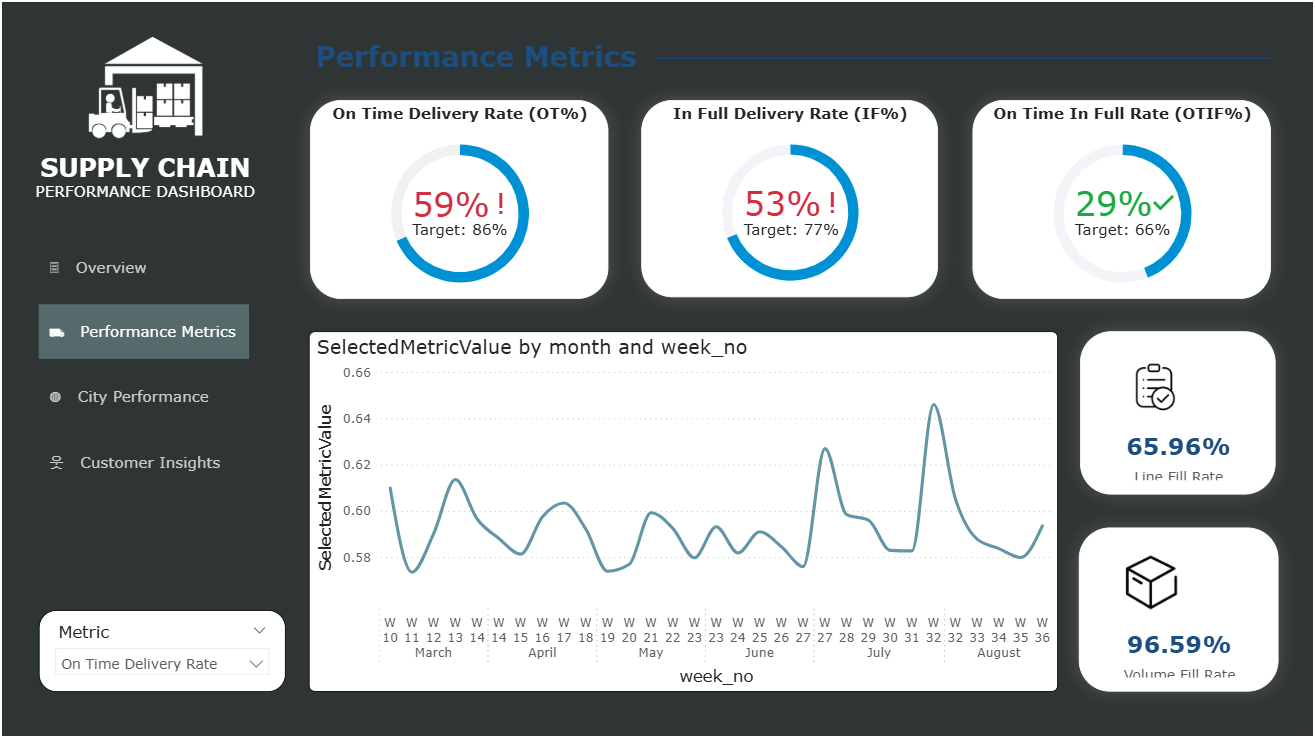

Layout of this report page (visuals, bound fields, positions):
{"tool":"powerbi","page":{"name":"⛟   Performance Metrics","canvas":[1280,720],"ordinal":1},"visuals":[{"type":"donutChart","title":"On Time Delivery Rate (OT%)","fields":{"Y":["_Calculations.On Time Orders","_Calculations.On Time Orders Diff"]},"box":[304,96,288,192],"z":0,"group":"g3"},{"type":"donutChart","title":"In Full Delivery Rate (IF%)","fields":{"Y":["_Calculations.In Full Orders","_Calculations.In Full Orders Diff"]},"box":[624,96,286.2,190],"z":0,"group":"g1"},{"type":"donutChart","title":"On Time In Full Rate (OTIF%)","fields":{"Y":["_Calculations.On Time In Full Orders","_Calculations.OTIF Diff"]},"box":[944,96,288,192],"z":0,"group":"g2"},{"type":"cardVisual","fields":{"Data":["_Calculations.Line Fill Rate"]},"box":[1047.5,320.1,189.1,157.4],"z":0},{"type":"group","id":"g1","title":"Group 1","box":[624,96,288,192],"z":1000},{"type":"kpi","fields":{"TrendLine":["fact_order_lines.actual_delivery_date"],"Indicator":["_Calculations.In Full Delivery Rate"],"Goal":["_Calculations.In Full Target"]},"box":[706.5,161,129.1,85],"z":1000,"group":"g1"},{"type":"kpi","fields":{"TrendLine":["fact_order_lines.actual_delivery_date"],"Indicator":["_Calculations.On Time In Full Rate"],"Goal":["_Calculations.On Time In Full Target"]},"box":[1026.5,161,129.1,85],"z":1000,"group":"g2"},{"type":"kpi","fields":{"TrendLine":["fact_order_lines.actual_delivery_date"],"Goal":["_Calculations.On Time Target"],"Indicator":["_Calculations.On Time Delivery Rate"]},"box":[386.2,165,128.8,80],"z":1000,"group":"g3"},{"type":"group","id":"g2","title":"Group 1","box":[944,96,288,192],"z":2000},{"type":"group","id":"g3","title":"Group 2","box":[304,96,288,192],"z":3000},{"type":"textbox","box":[303.8,32.5,928.8,47.5],"z":4000},{"type":"cardVisual","fields":{"Data":["_Calculations.Volume Fill Rate"]},"box":[1046.2,509.2,193.1,158.7],"z":12000},{"type":"textbox","box":[30,142.3,230,59],"z":13000},{"type":"image","box":[74.5,17.5,136.2,132.5],"z":14000},{"type":"pageNavigator","box":[42.5,230,203.8,242.5],"z":15000},{"type":"shape","box":[640,32.5,591.2,47.5],"z":16000},{"type":"slicer","fields":{"Values":["MetricSelector.Metric"]},"box":[42.3,588.6,238.1,79.4],"z":17000},{"type":"lineChart","fields":{"Y":["MetricSelector.SelectedMetricValue"],"Category":["dim_date.month","dim_date.week_no"]},"box":[302.9,320.1,723.5,347.8],"z":18000}]}

Visuals, with their boxes in screenshot pixels (x1, y1, x2, y2), scaled from the page's 1280x720 canvas onto the 1315x738 screenshot:
"On Time Delivery Rate (OT%)" donutChart: pyautogui.locateOnScreen(312, 98, 608, 295)
"In Full Delivery Rate (IF%)" donutChart: pyautogui.locateOnScreen(641, 98, 935, 293)
"On Time In Full Rate (OTIF%)" donutChart: pyautogui.locateOnScreen(970, 98, 1266, 295)
cardVisual - _Calculations.Line Fill Rate: pyautogui.locateOnScreen(1076, 328, 1270, 489)
"Group 1" group: pyautogui.locateOnScreen(641, 98, 937, 295)
kpi - fact_order_lines.actual_delivery_date x _Calculations.In Full Delivery Rate: pyautogui.locateOnScreen(726, 165, 858, 252)
kpi - fact_order_lines.actual_delivery_date x _Calculations.On Time In Full Rate: pyautogui.locateOnScreen(1055, 165, 1187, 252)
kpi - fact_order_lines.actual_delivery_date x _Calculations.On Time Target: pyautogui.locateOnScreen(397, 169, 529, 251)
"Group 1" group: pyautogui.locateOnScreen(970, 98, 1266, 295)
"Group 2" group: pyautogui.locateOnScreen(312, 98, 608, 295)
textbox: pyautogui.locateOnScreen(312, 33, 1266, 82)
cardVisual - _Calculations.Volume Fill Rate: pyautogui.locateOnScreen(1075, 522, 1273, 685)
textbox: pyautogui.locateOnScreen(31, 146, 267, 206)
image: pyautogui.locateOnScreen(77, 18, 216, 154)
pageNavigator: pyautogui.locateOnScreen(44, 236, 253, 484)
shape: pyautogui.locateOnScreen(658, 33, 1265, 82)
slicer - MetricSelector.Metric: pyautogui.locateOnScreen(43, 603, 288, 685)
lineChart - MetricSelector.SelectedMetricValue x dim_date.month: pyautogui.locateOnScreen(311, 328, 1054, 685)
